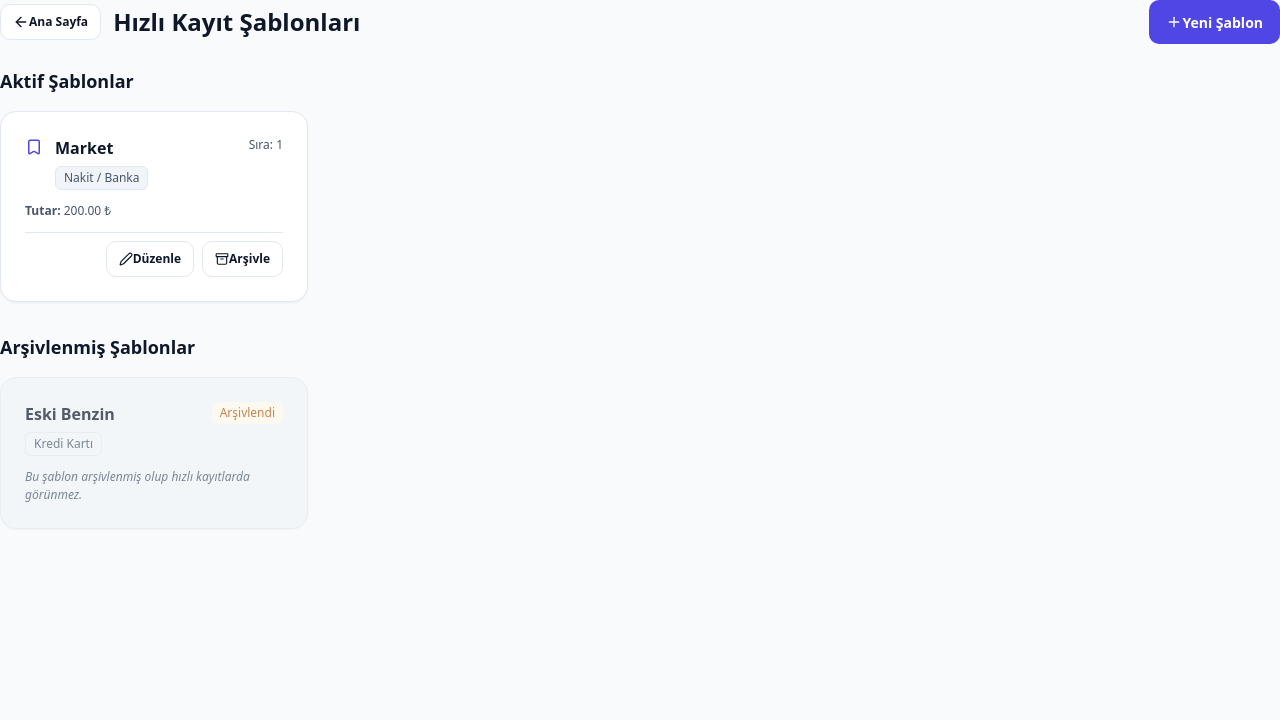
Test: Template Management & Server Synchronization (Section 71-73) › Section 73: create network uncertainty does not auto-retry, refetches list, and warns user
The image size is (1280, 720).
Expected: the heading "Market" is shown, top-left (55, 137), bottom-right (113, 159)
Click the button with test id "create-template-btn" at (1215, 22), box top-left (1149, 0), bottom-right (1279, 44)
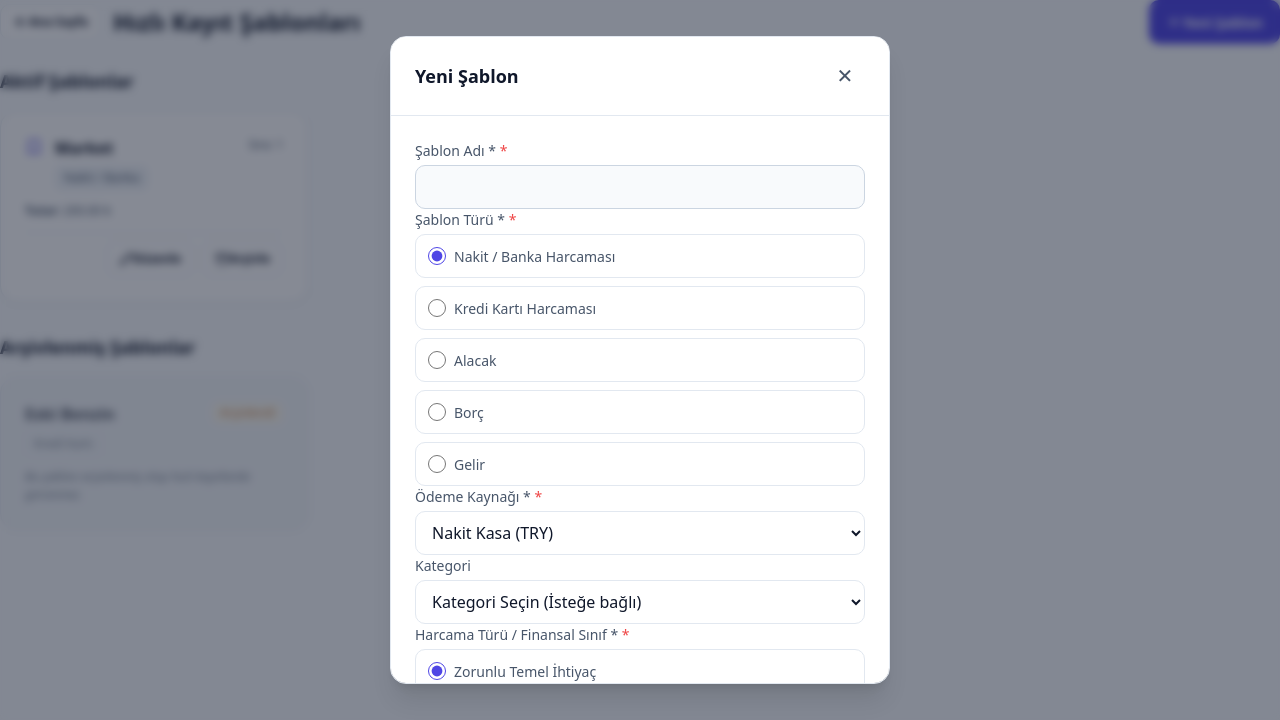
Type "Belirsiz Şablon" into the field with test id "tpl-name-input" at (640, 187), box top-left (415, 165), bottom-right (865, 209)
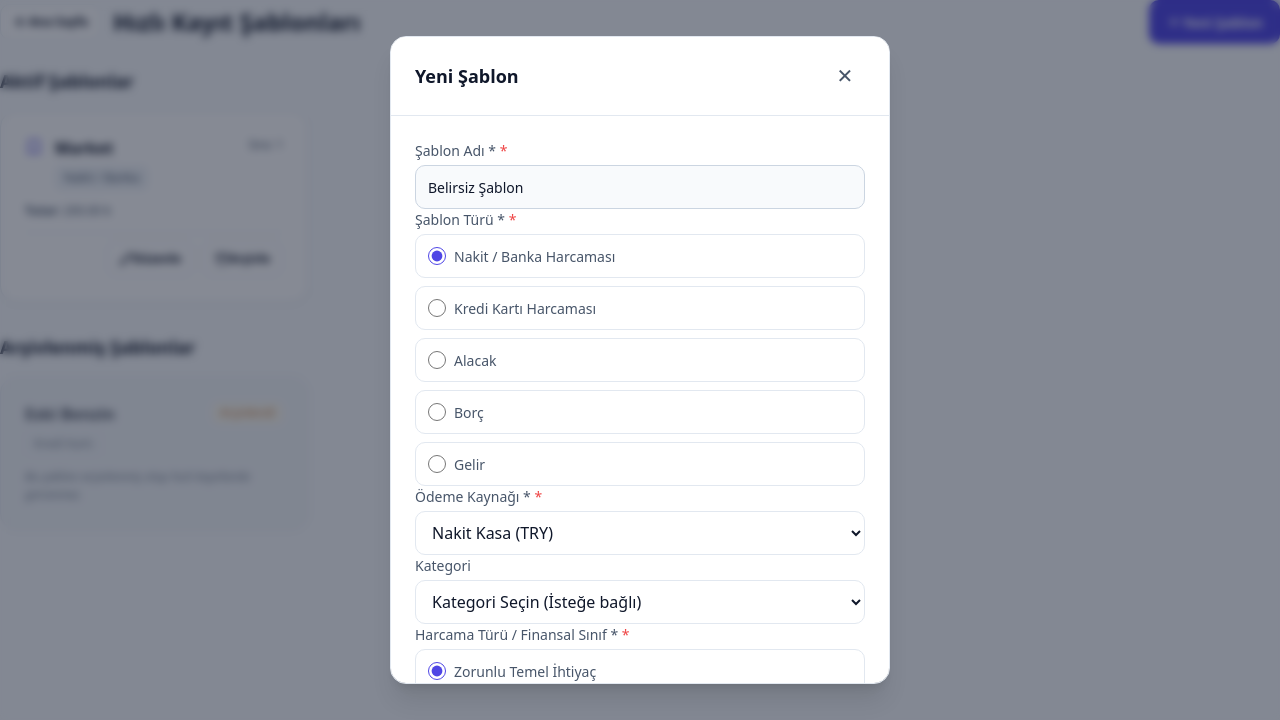
Select "Nakit Kasa (TRY)" in the dropdown with test id "tpl-source-account-select" at (640, 533), box top-left (415, 511), bottom-right (865, 555)
(page scrolled)
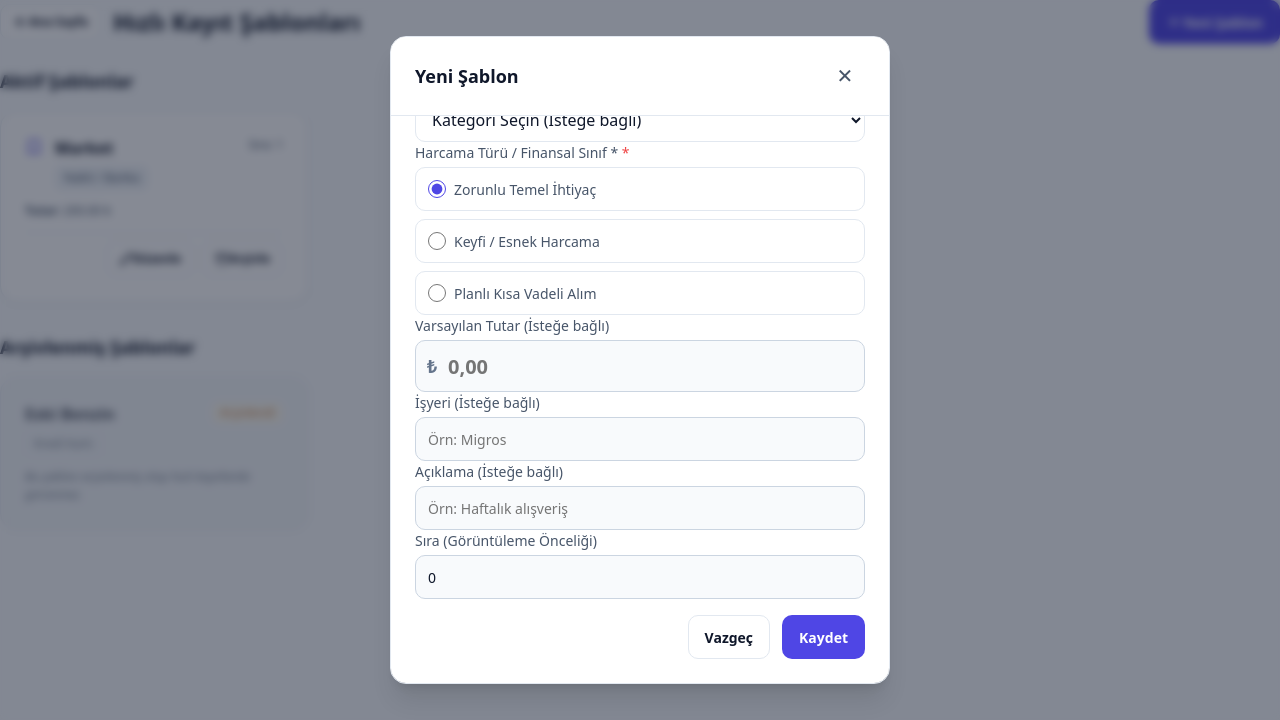
Click the button with test id "tpl-save-btn" at (824, 637), box top-left (782, 615), bottom-right (865, 659)
(page scrolled)
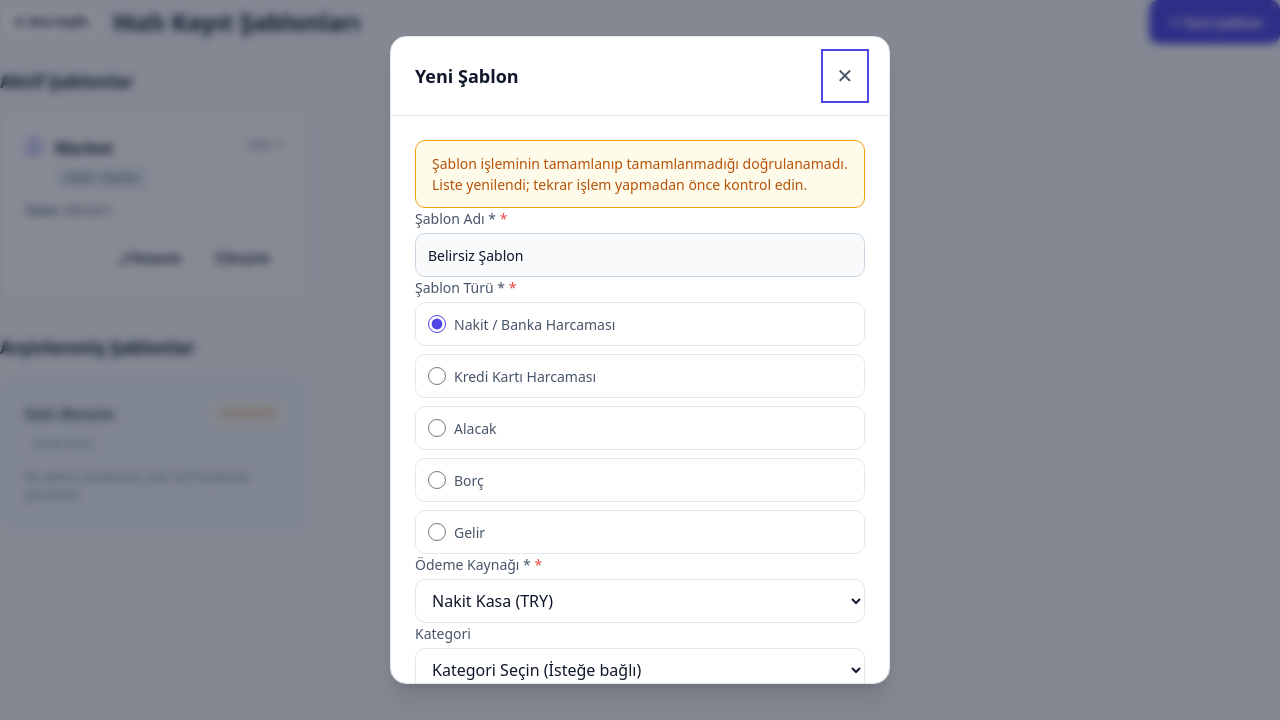
Now the message with test id "network-uncertainty-warning" shows "Şablon işleminin tamamlanıp tamamlanmadığı doğrulanamadı. Liste yenilendi; tekrar işlem yapmadan önce kontrol edin.", box top-left (432, 154), bottom-right (848, 194)
